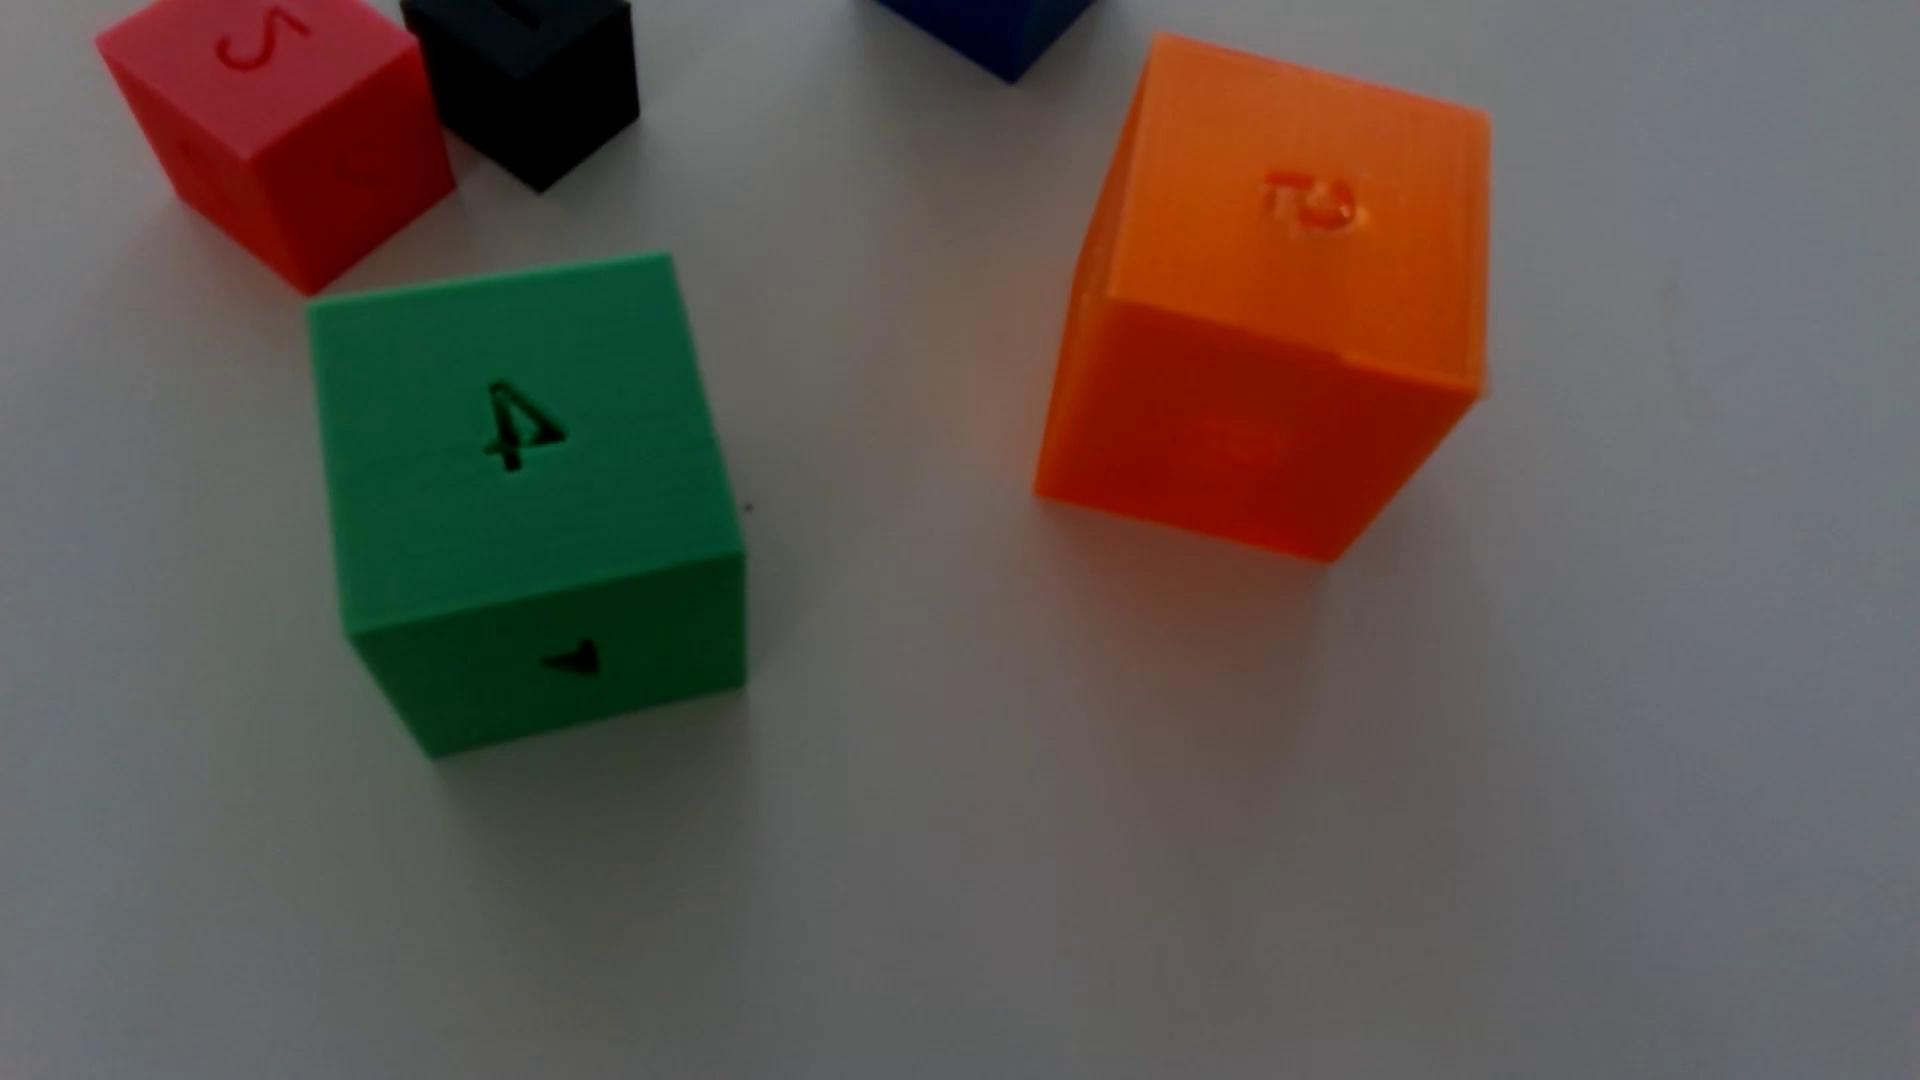black: (400, 0, 641, 193)
blue: (876, 0, 1096, 84)
green: (306, 255, 746, 758)
orange: (1034, 36, 1491, 563)
red: (98, 0, 455, 295)
